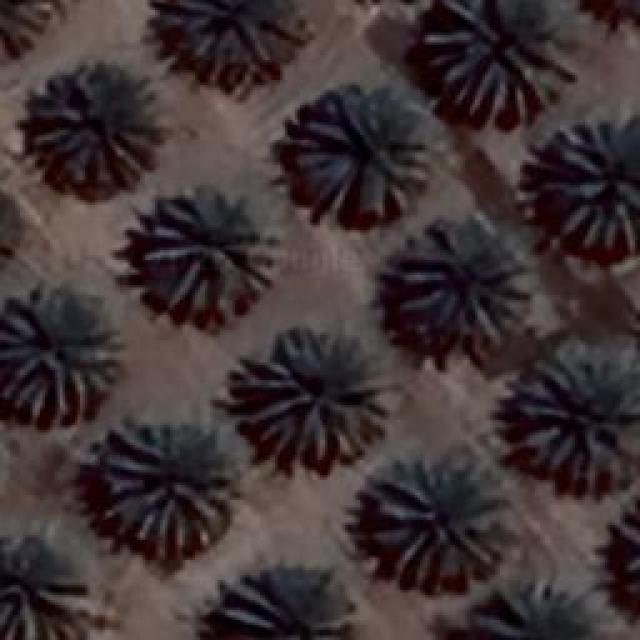PalmTree: (26, 30, 286, 611), (230, 332, 390, 466), (282, 88, 436, 222), (422, 0, 576, 128), (140, 188, 280, 322), (368, 460, 510, 588), (392, 215, 532, 343), (100, 420, 232, 555), (507, 348, 635, 482), (30, 68, 160, 188), (0, 295, 120, 423), (544, 115, 638, 250), (162, 0, 307, 72), (0, 528, 88, 638), (467, 578, 595, 638), (617, 487, 640, 624), (622, 487, 640, 615), (0, 176, 20, 281), (0, 175, 15, 282)
